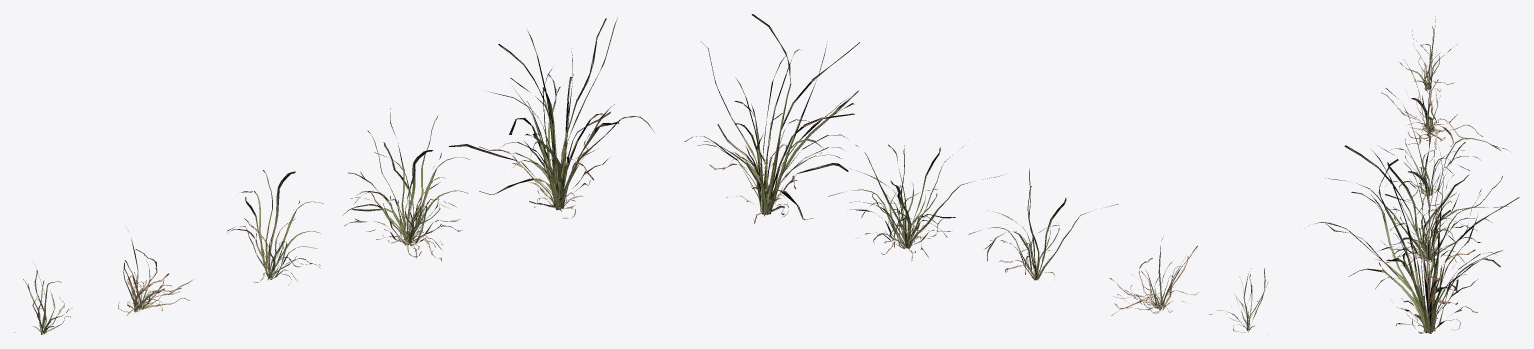
File: grass.glb
3 views of the same model, side by side, from view 1: azimuth 30°, elevation 25°; view 2: azimuth 150°, elevation 25°; view 3: azimuth 270°, elevation 25° (orthographic). The views are drawn at different scales.
Parts seen in each view (by area): view 1: grass_medium_02_e, grass_medium_02_d, grass_medium_02_c, grass_medium_02_b, grass_medium_02_a; view 2: grass_medium_02_e, grass_medium_02_d, grass_medium_02_c, grass_medium_02_b, grass_medium_02_a; view 3: grass_medium_02_e, grass_medium_02_d, grass_medium_02_c, grass_medium_02_b, grass_medium_02_a.
Boxes of the visible parts, <box> form: grass_medium_02_e: <box>449,17,654,218</box>; grass_medium_02_d: <box>343,108,470,261</box>; grass_medium_02_c: <box>227,170,323,285</box>; grass_medium_02_b: <box>118,231,193,315</box>; grass_medium_02_a: <box>15,262,72,334</box>; grass_medium_02_e: <box>684,14,859,223</box>; grass_medium_02_d: <box>828,144,1000,261</box>; grass_medium_02_c: <box>968,169,1118,280</box>; grass_medium_02_b: <box>1109,236,1198,315</box>; grass_medium_02_a: <box>1209,268,1268,334</box>; grass_medium_02_e: <box>1313,145,1519,333</box>; grass_medium_02_d: <box>1325,142,1508,272</box>; grass_medium_02_c: <box>1386,88,1506,214</box>; grass_medium_02_b: <box>1381,50,1482,149</box>; grass_medium_02_a: <box>1400,16,1453,91</box>.
Bounding box in the file's own units: 1.45 × 0.4504 × 0.4793.
1 material, 1 textured.
